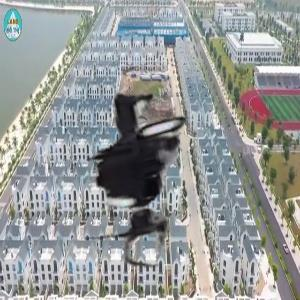drone: (39, 53, 264, 278)
